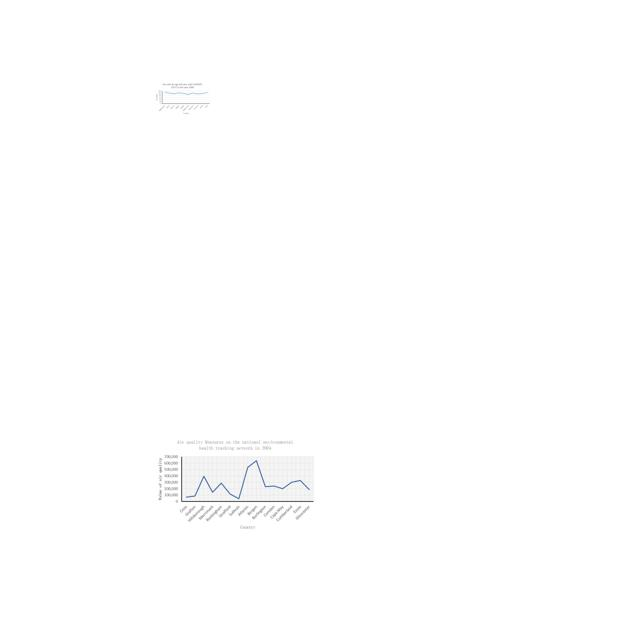Graph: (153, 436, 316, 532), (154, 82, 211, 116)
